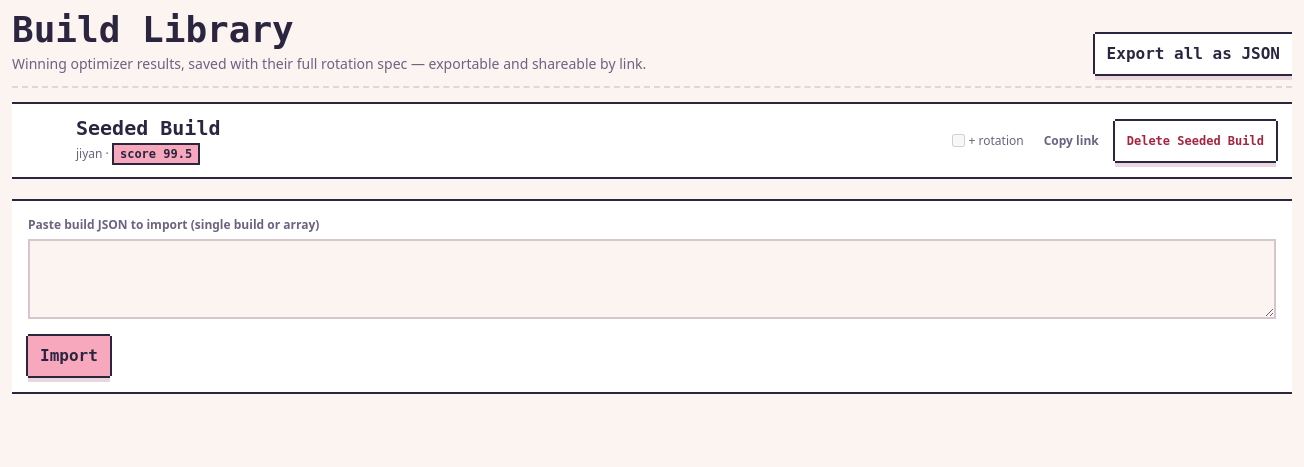
Test case: BuildsPage › explains why a link cannot be made instead of guessing
Expected: the text "Seeded Build" is shown, [76,116,220,141]
Click the button "Copy link": (1071, 140) [1032,120,1111,160]
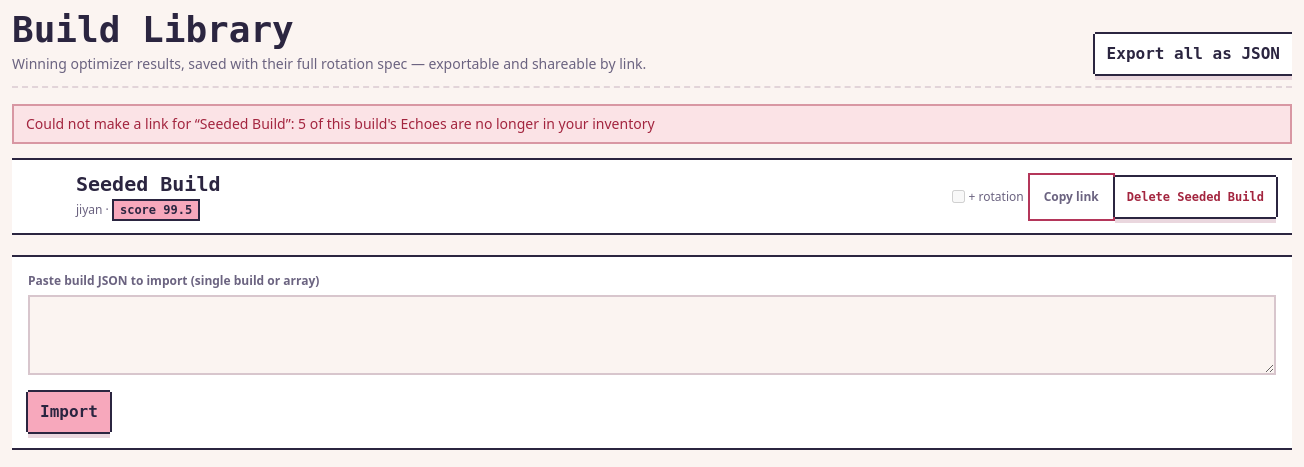
Expected: the text "no longer in your inventory" is shown, [26,114,655,133]
